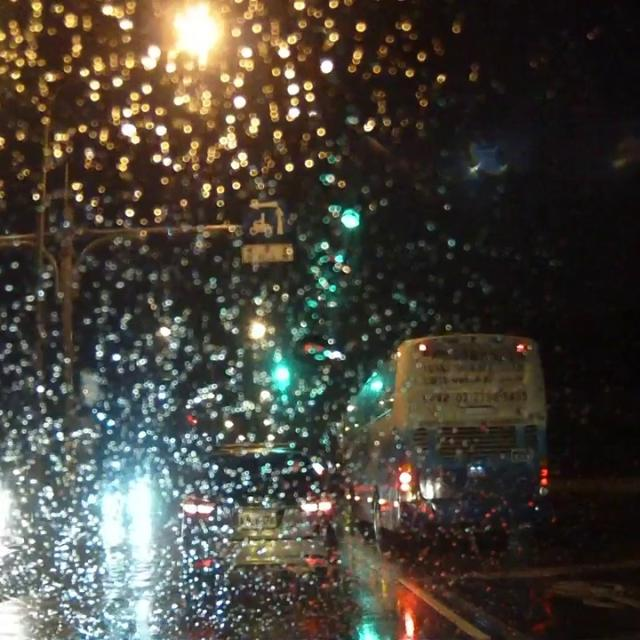Car: (173, 441, 345, 576)
